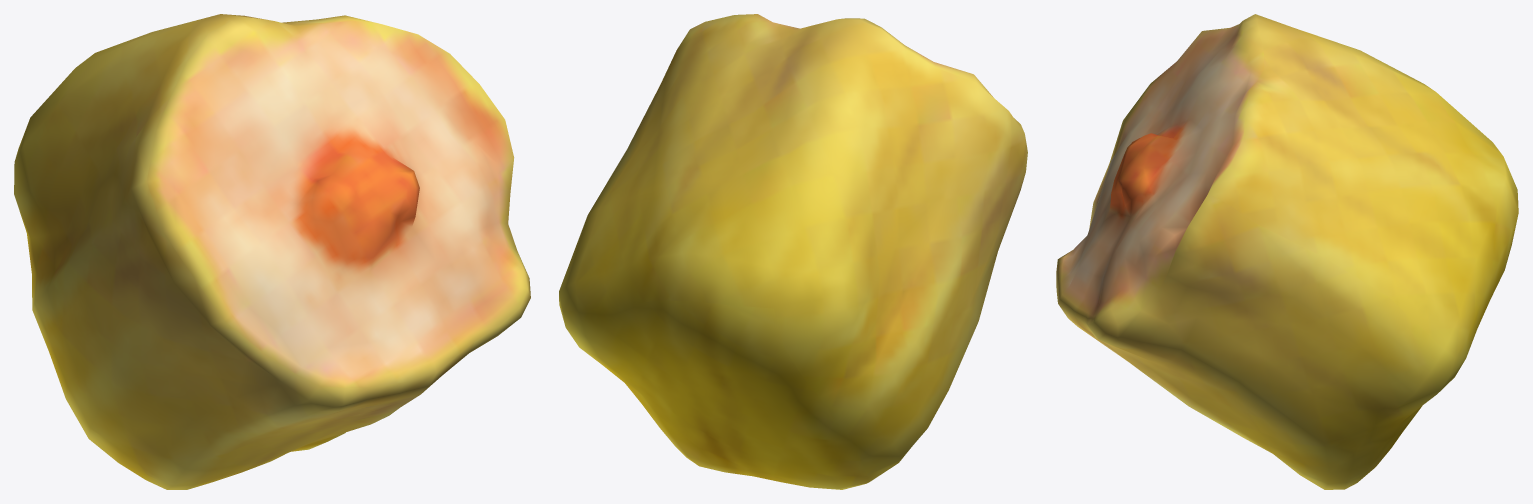
File: BFShrimpShaoMai.glb
3 views of the same model, side by side, from view 1: azimuth 30°, elevation 25°; view 2: azimuth 150°, elevation 25°; view 3: azimuth 270°, elevation 25° (orthographic). The views are drawn at different scales.
Visible parts, largest first — view 1: XPshaoMai; view 2: XPshaoMai; view 3: XPshaoMai.
Boxes of the visible parts, x1,y1,x2,y2 form: XPshaoMai: [14, 14, 530, 489]; XPshaoMai: [559, 14, 1027, 489]; XPshaoMai: [1056, 14, 1518, 489].
Bounding box in the file's own units: 0.798 × 0.9999 × 1.
1 material, 1 textured.
